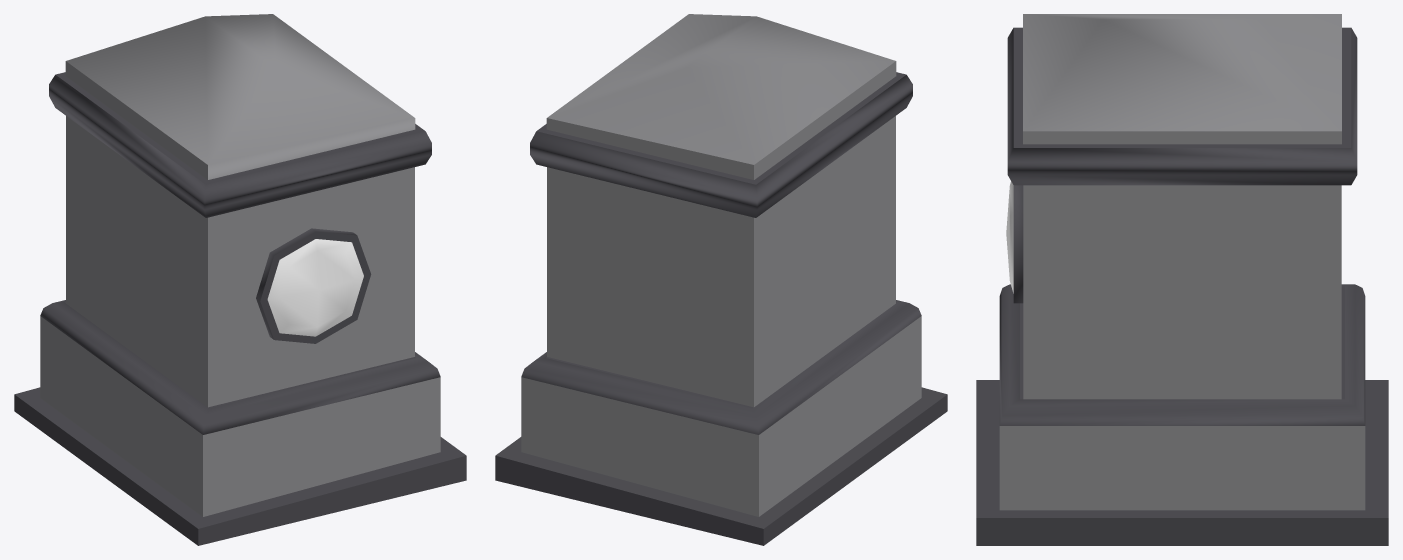
The model's file is d34aab7b-f2d1-4ec4-971e-20bf3a0852fa.glb.
3 views of the same model, side by side, from view 1: azimuth 30°, elevation 25°; view 2: azimuth 150°, elevation 25°; view 3: azimuth 270°, elevation 25° (orthographic). The views are drawn at different scales.
Parts seen in each view (by area): view 1: Sarcophagus02; view 2: Sarcophagus02; view 3: Sarcophagus02.
Part boxes in pixels (left/top/right/bottom): Sarcophagus02: left=14, top=14, right=466, bottom=545; Sarcophagus02: left=495, top=14, right=947, bottom=545; Sarcophagus02: left=976, top=14, right=1388, bottom=545.
Size of what is drawn, in the model's own units: 0.9877 by 1.42 by 1.17.
Materials: 1 (1 with a texture image).
